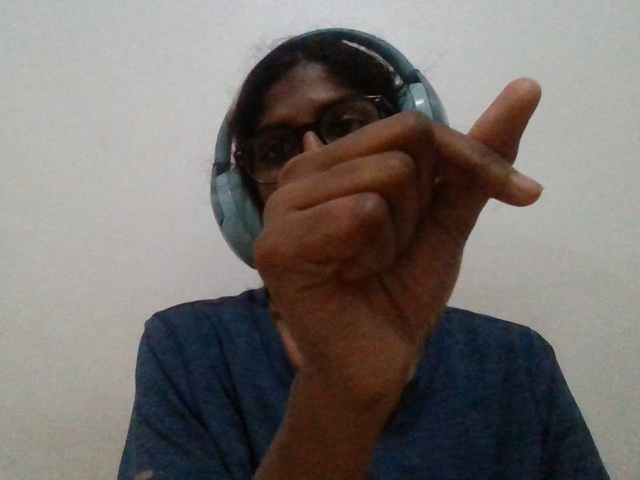G: (221, 58, 570, 435)
